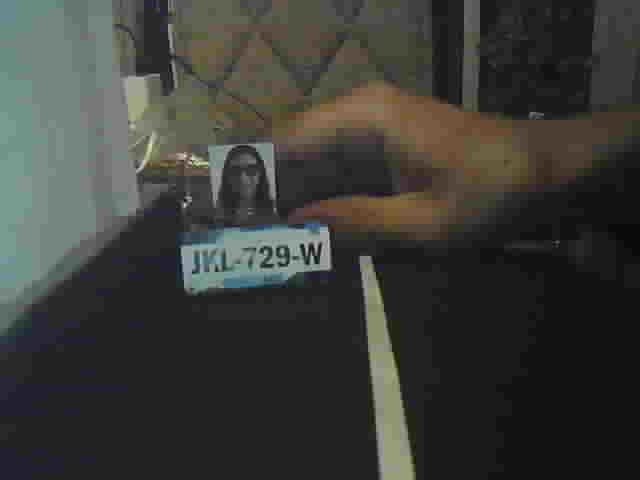PLACA: (174, 220, 335, 297)
ROSTRO: (214, 146, 277, 215)
